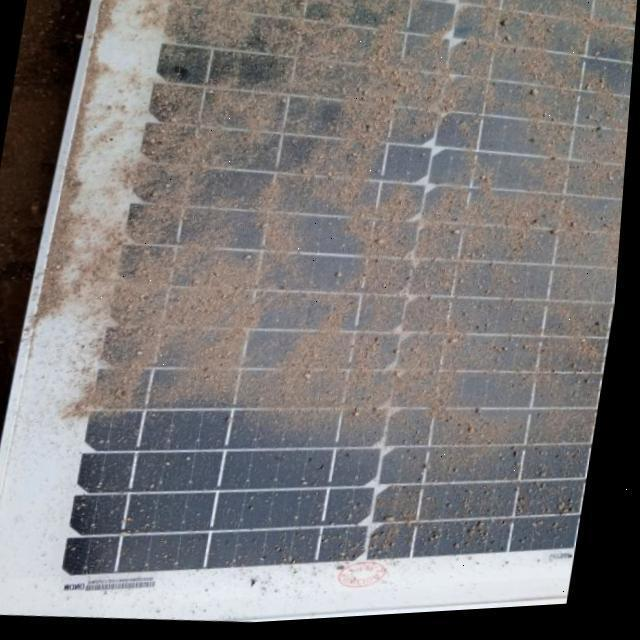Anomaly Solar Panel: (58, 0, 640, 635)
Surface Contaminant: (61, 0, 638, 610)
